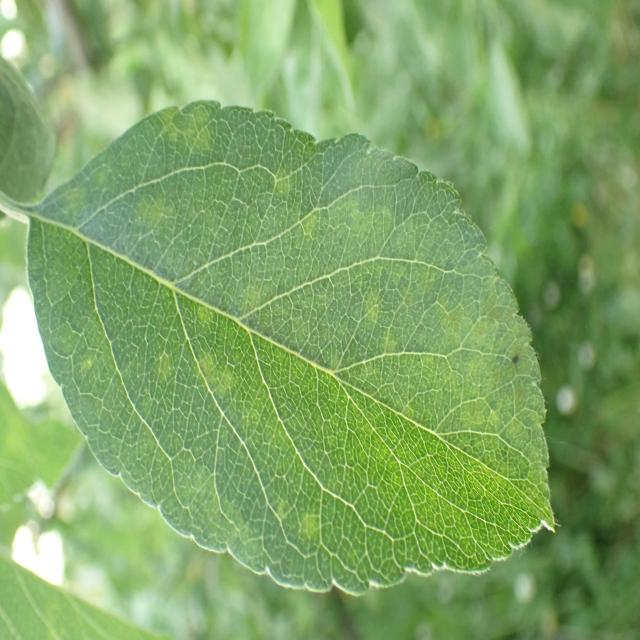scab: (40, 118, 562, 558)
